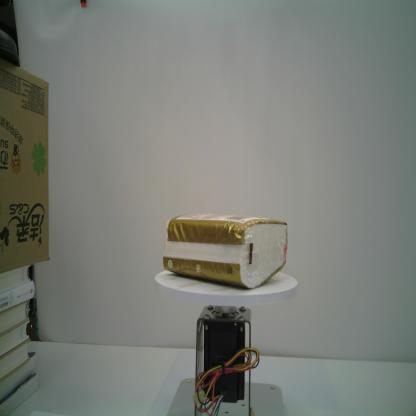Tissue: (163, 212, 287, 289)
